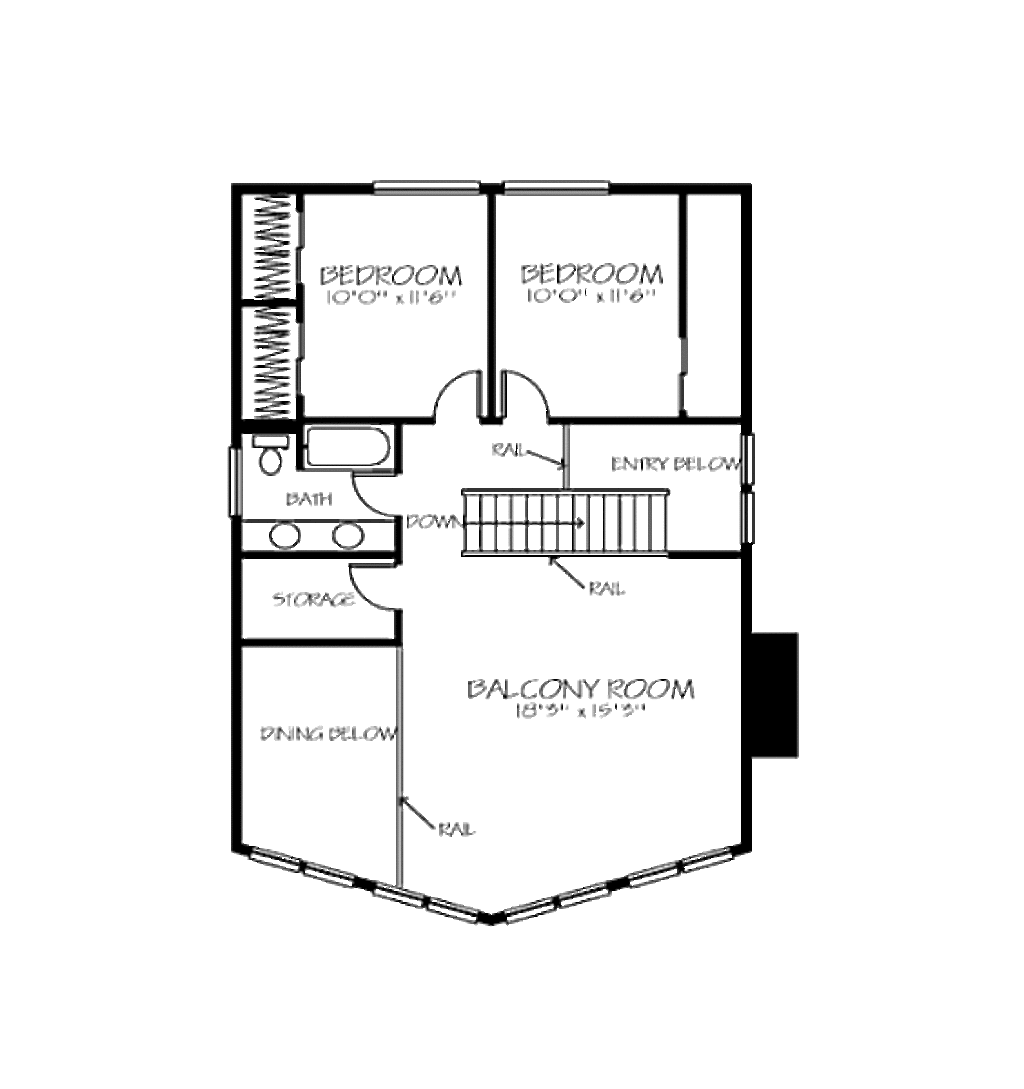door: (420, 360, 500, 424), (500, 355, 565, 429), (335, 460, 407, 525), (344, 562, 415, 617)
large_sink: (240, 432, 289, 475)
small_sink: (244, 519, 392, 557)
stairs: (454, 474, 675, 567)
tub: (300, 407, 405, 474)
window: (235, 822, 477, 932), (485, 842, 734, 925), (482, 164, 614, 207), (367, 174, 495, 202), (739, 420, 759, 539)
